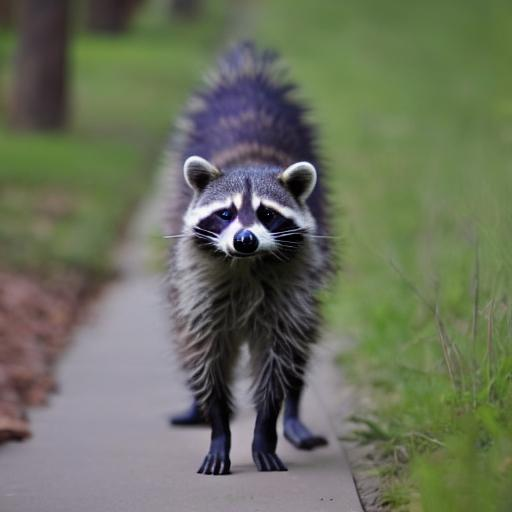raccoon: (167, 93, 327, 391)
